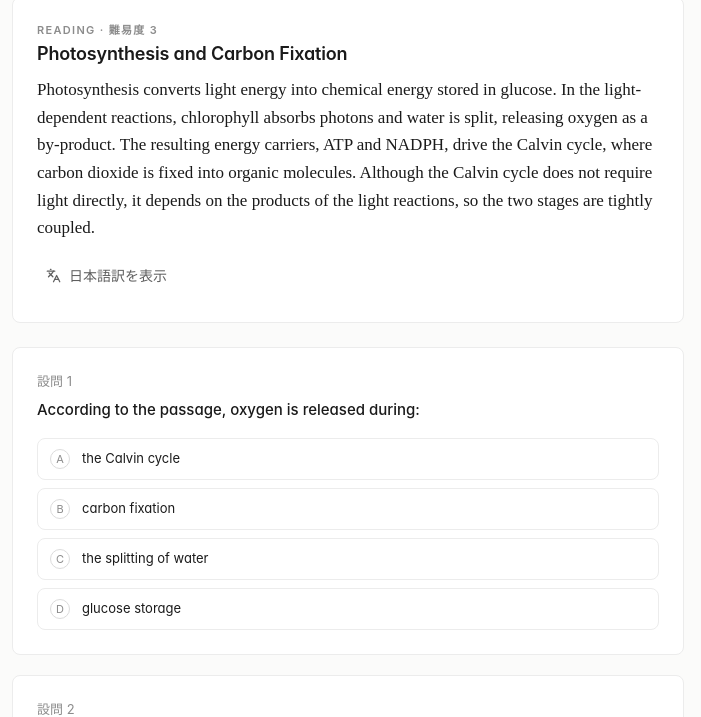
Test: Reading screen › transitions to a completion view with next-step links after 完了
Click the text "the splitting of water" at (145, 558), box [82, 550, 208, 566]
(page scrolled)
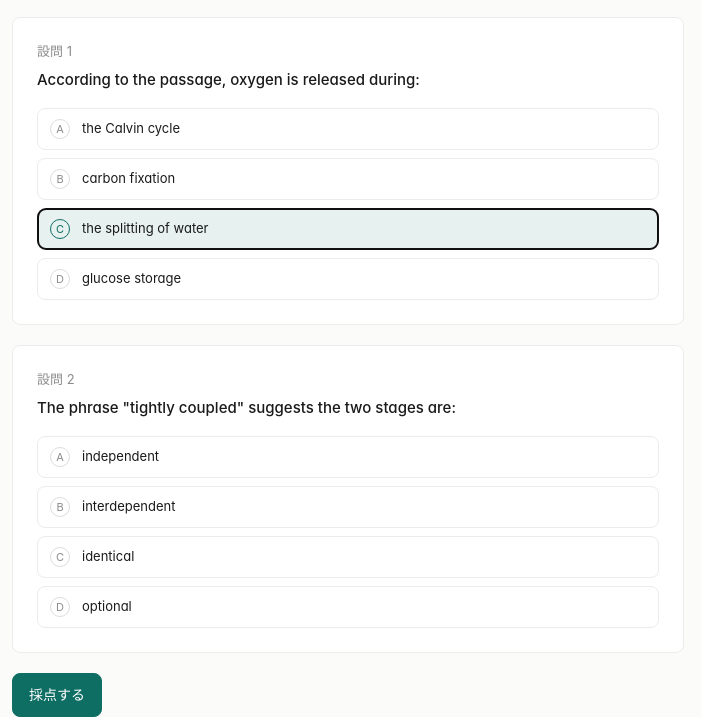
Click the text "interdependent" at (129, 506), box [82, 498, 176, 514]
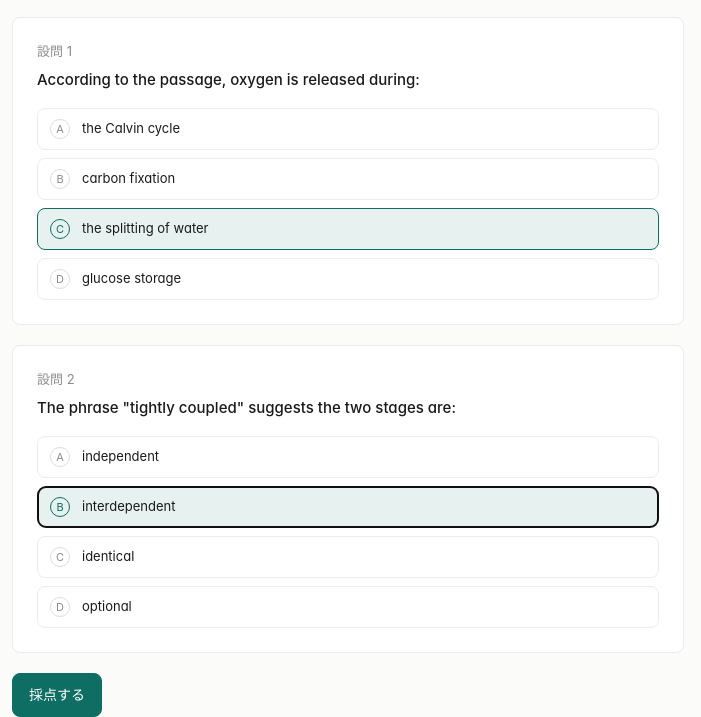
Click the button "採点する" at (57, 695), box [12, 673, 102, 716]
(page scrolled)
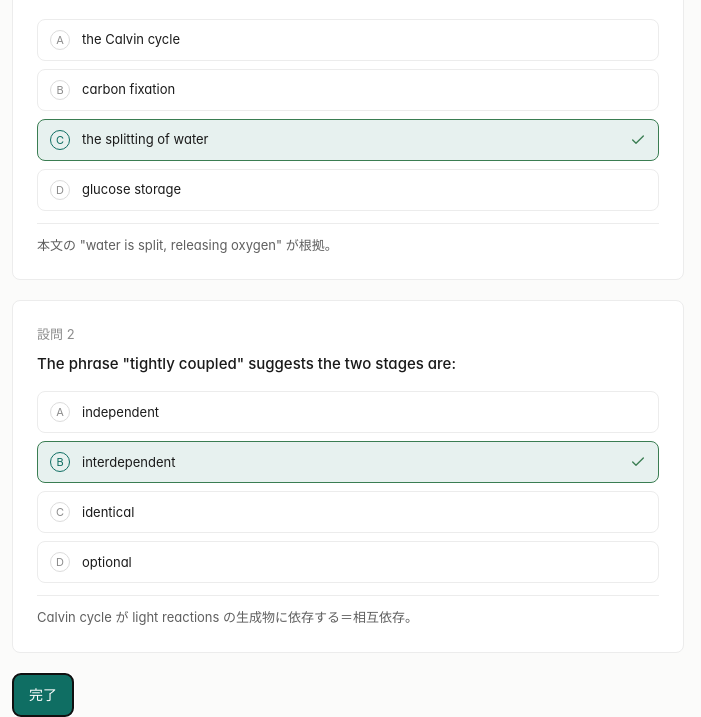
Click the button "完了" at (43, 695), box [12, 673, 74, 716]
(page scrolled)
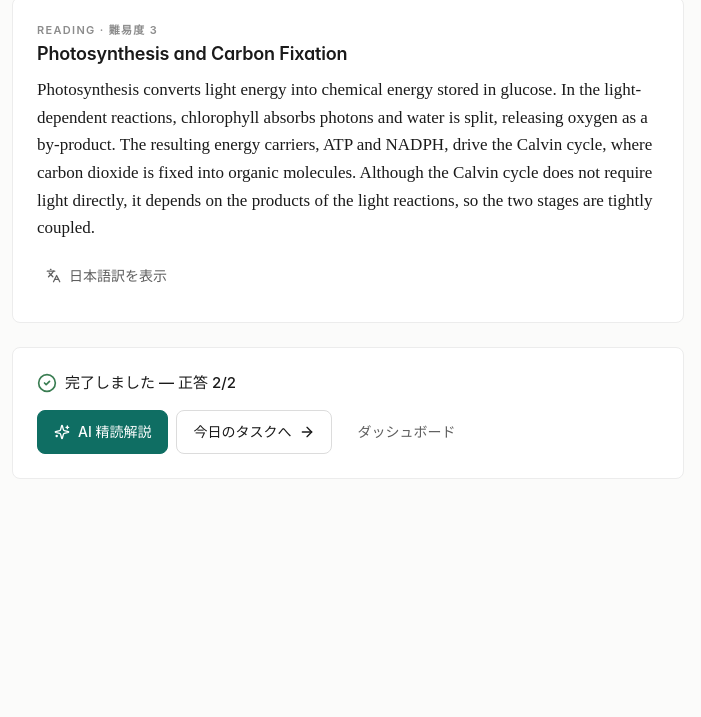
Expected: the button "採点する" is not shown
Now the text "完了しました — 正答 2/2" is shown, box [65, 372, 236, 394]
Now the link "今日のタスクへ" is shown, box [176, 410, 332, 454]
